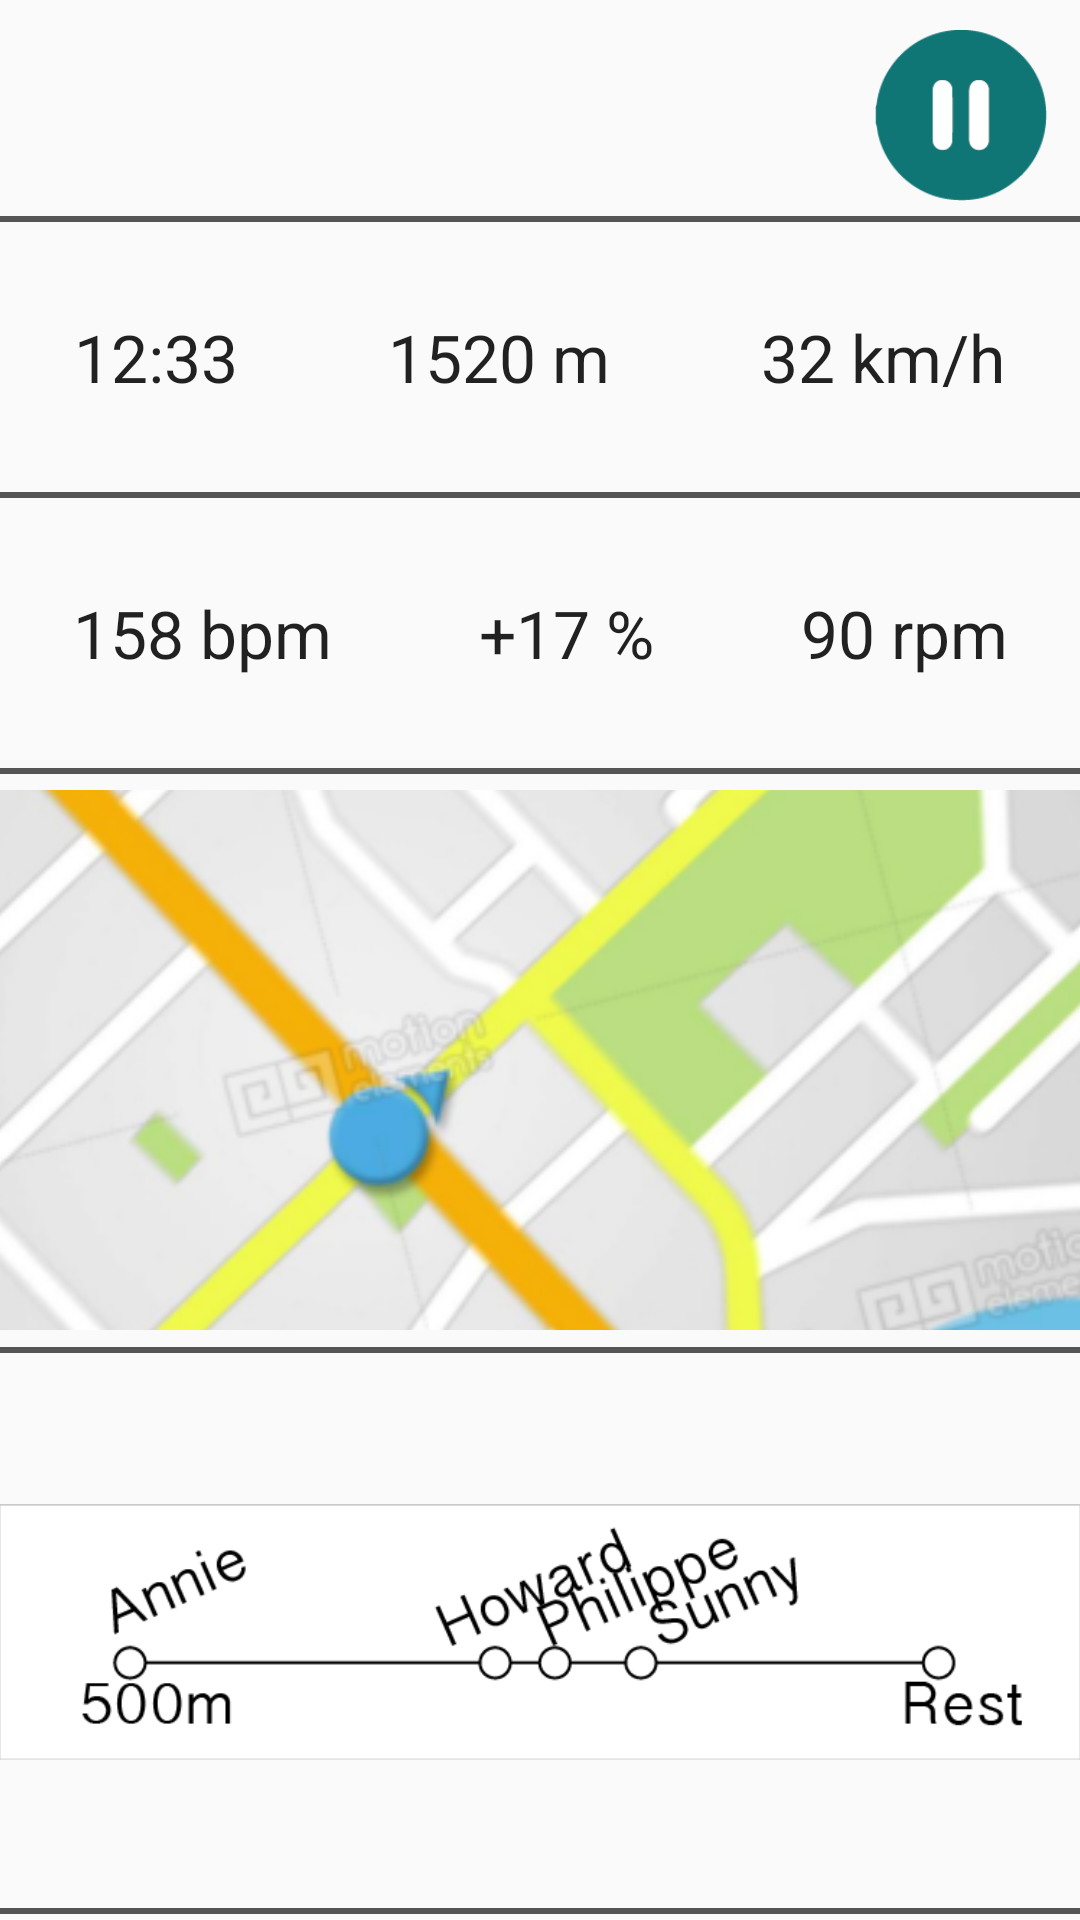

Named icons in this screenshot (1080 x 1920) and their bounding boxes, (x1, y1, x2, y2):
pause: (875, 30, 1047, 201)
